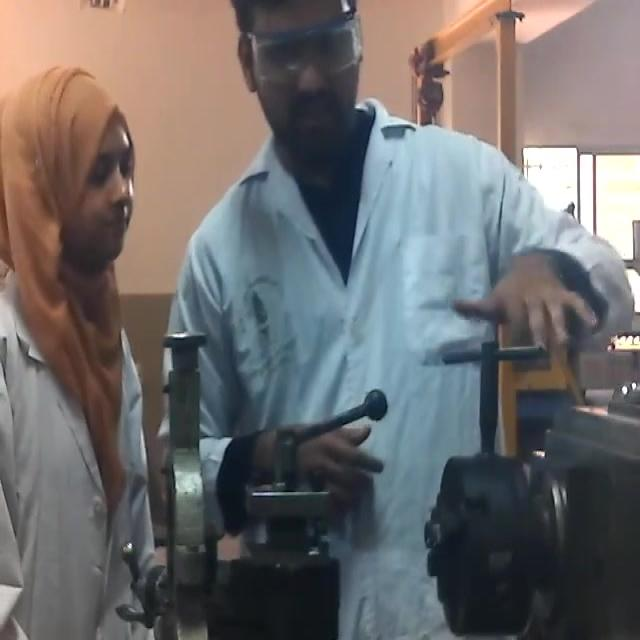googles: (249, 12, 365, 85)
labcoat: (160, 93, 639, 640), (0, 243, 156, 640)
